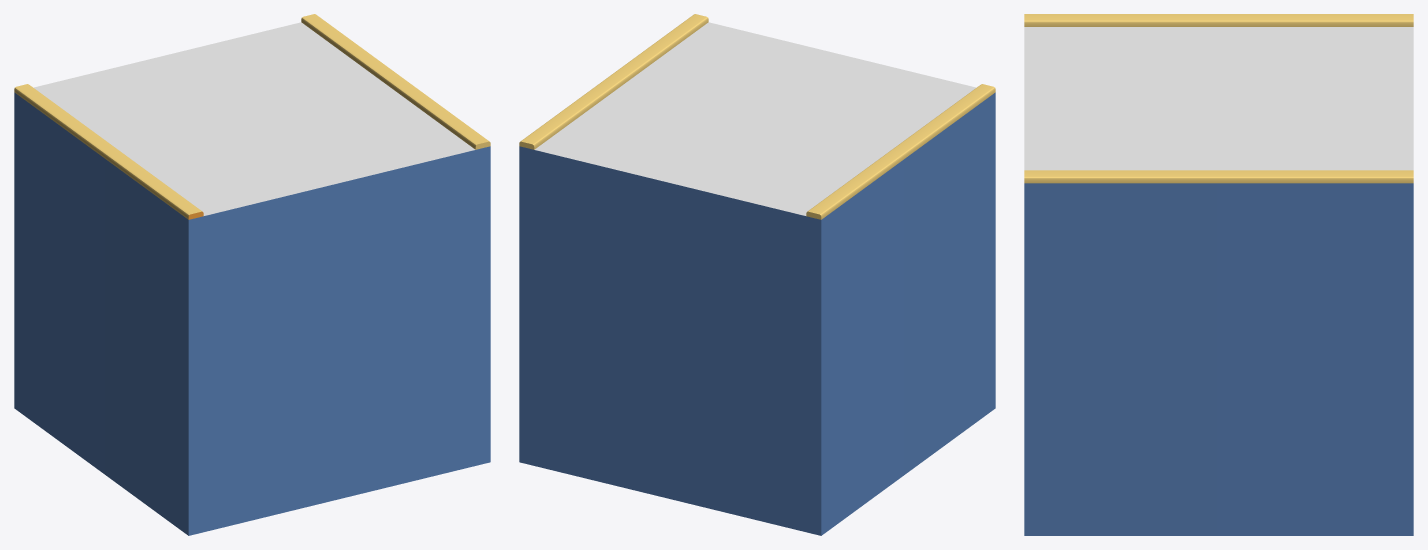
Rendered from zeminn.fbx.
3 renders of one model, left to right at view 1: azimuth 30°, elevation 25°; view 2: azimuth 150°, elevation 25°; view 3: azimuth 270°, elevation 25°, orthographic. The views are drawn at different scales.
Visible parts, largest first — view 1: zemin; view 2: zemin; view 3: zemin.
Boxes of the visible parts, <box> form: zemin: <box>14,14,490,535</box>; zemin: <box>519,14,995,535</box>; zemin: <box>1024,14,1413,535</box>.
Size of the model in its own units: 700 by 711 by 700.
1 material, 1 textured.
